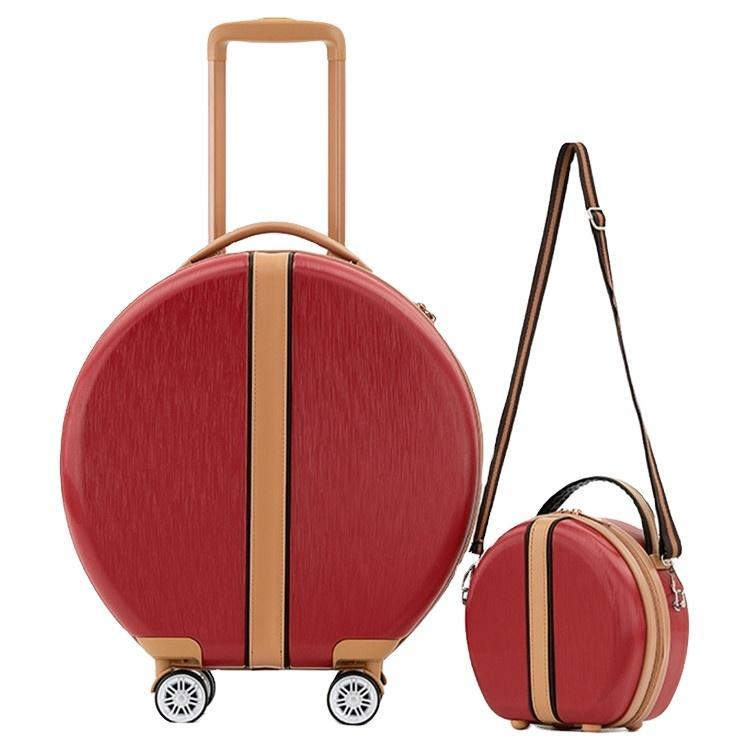handbag: (461, 127, 695, 735)
suitcase: (56, 215, 490, 679)
